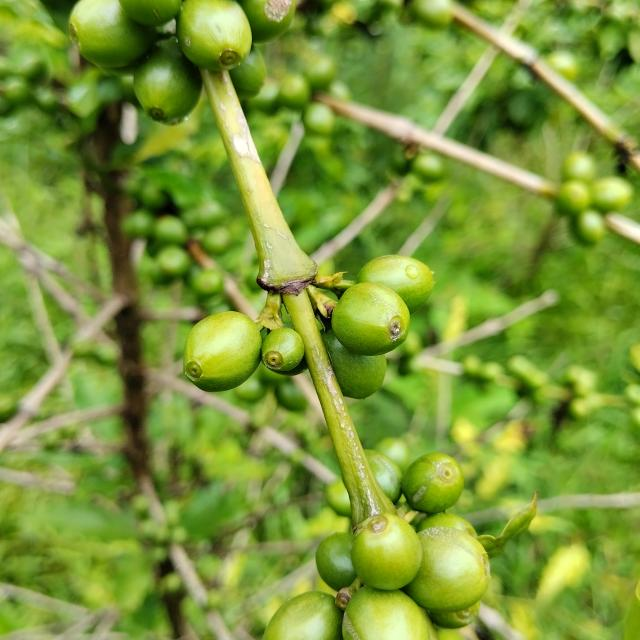green: (403, 528, 490, 614), (183, 311, 261, 392), (133, 38, 202, 124), (68, 0, 155, 67), (332, 282, 410, 356), (351, 514, 423, 591), (176, 0, 252, 70), (342, 587, 431, 640), (356, 255, 434, 314), (322, 330, 387, 399), (401, 453, 464, 515), (263, 592, 344, 640), (365, 450, 402, 504), (416, 513, 478, 538)
